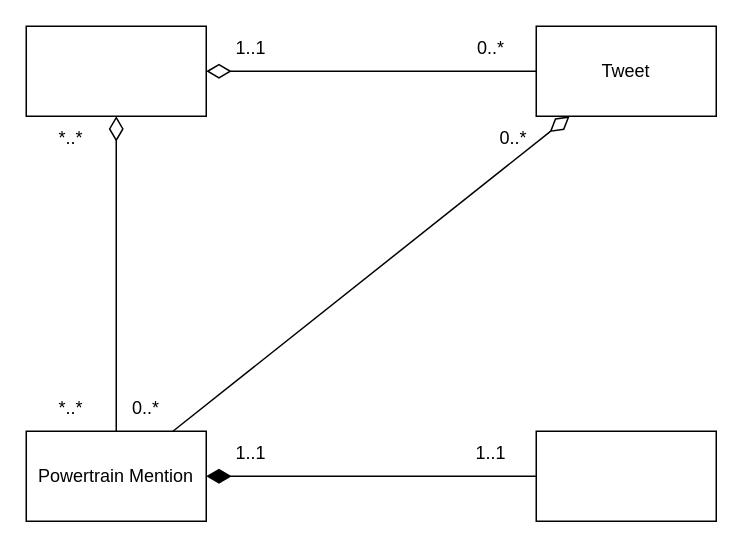
Image size: 743x548. Some labels were removed from this diagram. The shapes that lost their labels are listed below. From the top down, each one's centre as x and y in pixels, then its label:
(x=115, y=70): Twitter Handle
(x=625, y=475): Sentiment?
